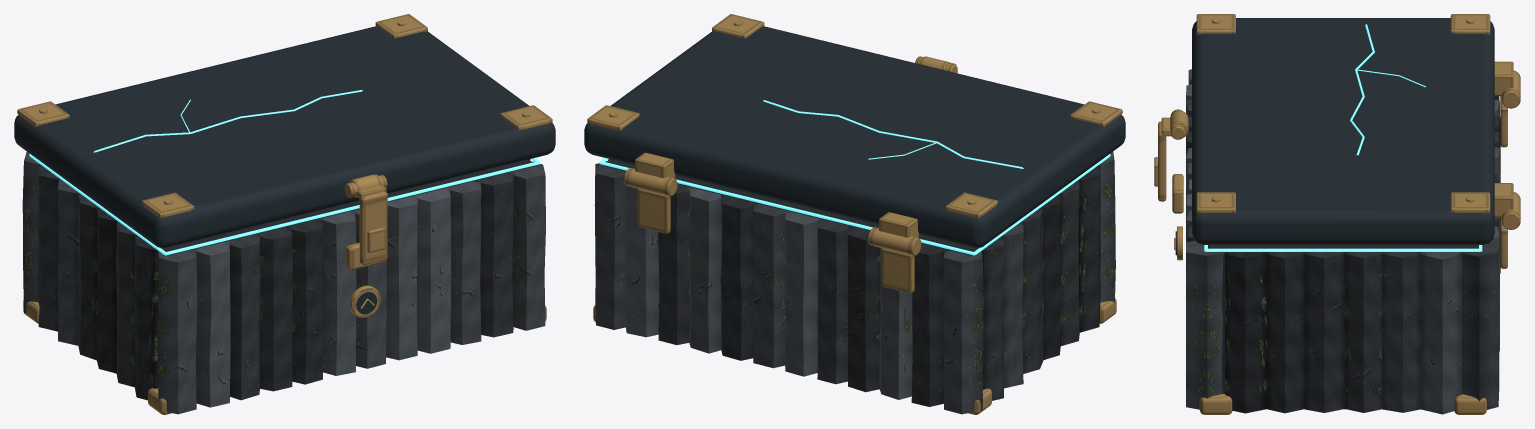
Rendered from iceland.glb.
3 views of the same model, side by side, from view 1: azimuth 30°, elevation 25°; view 2: azimuth 150°, elevation 25°; view 3: azimuth 270°, elevation 25° (orthographic). The views are drawn at different scales.
Visible parts, largest first — view 1: Lid / polished slab, Basalt column / long -1.07 00, Basalt column / long -1.07 01, Basalt column / long -1.07 08, Basalt column / long -1.07 03, Basalt column / long -1.07 11, Basalt column / long -1.07 10, Basalt column / long -1.07 04, Basalt column / long -1.07 05, Basalt column / long -1.07 07, Basalt column / long -1.07 09, Basalt column / long -1.07 02 (+17 smaller); view 2: Lid / polished slab, Basalt column / long 1.07 00, Basalt column / long 1.07 07, Basalt column / long 1.07 05, Basalt column / long 1.07 08, Basalt column / long 1.07 06, Basalt column / long 1.07 03, Basalt column / long 1.07 11, Basalt column / long 1.07 01, Basalt column / long 1.07 04, Basalt column / long 1.07 09, Basalt column / long 1.07 10 (+22 smaller); view 3: Lid / polished slab, Basalt column / end 1.65 00, Basalt column / end 1.65 05, Basalt column / end 1.65 02, Basalt column / end 1.65 04, Basalt column / end 1.65 01, Basalt column / end 1.65 03, Basalt column / long 1.07 11, Basalt column / long -1.07 11, Glacial seam / end.001, Interior wall / end.001, Lid / brass corner.003 (+15 smaller).
Boxes of the visible parts, <box> form: Lid / polished slab: <box>14,26,555,247</box>; Basalt column / long -1.07 00: <box>157,250,197,414</box>; Basalt column / long -1.07 01: <box>192,241,230,407</box>; Basalt column / long -1.07 08: <box>410,187,450,353</box>; Basalt column / long -1.07 03: <box>254,226,292,391</box>; Basalt column / long -1.07 11: <box>507,160,545,330</box>; Basalt column / long -1.07 10: <box>474,173,513,337</box>; Basalt column / long -1.07 04: <box>284,219,323,384</box>; Basalt column / long -1.07 05: <box>319,210,356,375</box>; Basalt column / long -1.07 07: <box>386,195,417,360</box>; Basalt column / long -1.07 09: <box>446,181,481,344</box>; Basalt column / long -1.07 02: <box>229,234,260,400</box>; Lid / polished slab: <box>584,26,1125,247</box>; Basalt column / long 1.07 00: <box>943,249,983,414</box>; Basalt column / long 1.07 07: <box>720,194,754,360</box>; Basalt column / long 1.07 05: <box>785,210,822,376</box>; Basalt column / long 1.07 08: <box>688,186,725,353</box>; Basalt column / long 1.07 06: <box>753,203,786,368</box>; Basalt column / long 1.07 03: <box>848,226,880,392</box>; Basalt column / long 1.07 11: <box>594,160,625,329</box>; Basalt column / long 1.07 01: <box>911,243,948,406</box>; Basalt column / long 1.07 04: <box>817,219,851,384</box>; Basalt column / long 1.07 09: <box>658,184,689,344</box>; Basalt column / long 1.07 10: <box>625,171,659,337</box>; Lid / polished slab: <box>1192,18,1494,244</box>; Basalt column / end 1.65 00: <box>1225,252,1267,413</box>; Basalt column / end 1.65 05: <box>1420,252,1461,414</box>; Basalt column / end 1.65 02: <box>1304,252,1344,412</box>; Basalt column / end 1.65 04: <box>1382,252,1422,412</box>; Basalt column / end 1.65 01: <box>1266,252,1304,413</box>; Basalt column / end 1.65 03: <box>1344,252,1384,412</box>; Basalt column / long 1.07 11: <box>1462,241,1498,409</box>; Basalt column / long -1.07 11: <box>1186,241,1223,409</box>; Glacial seam / end.001: <box>1206,248,1480,251</box>; Interior wall / end.001: <box>1225,245,1461,384</box>; Lid / brass corner.003: <box>1450,192,1490,213</box>.
Size of the model in its own units: 3.72 by 1.83 by 2.88.
9 materials, 6 textured.
